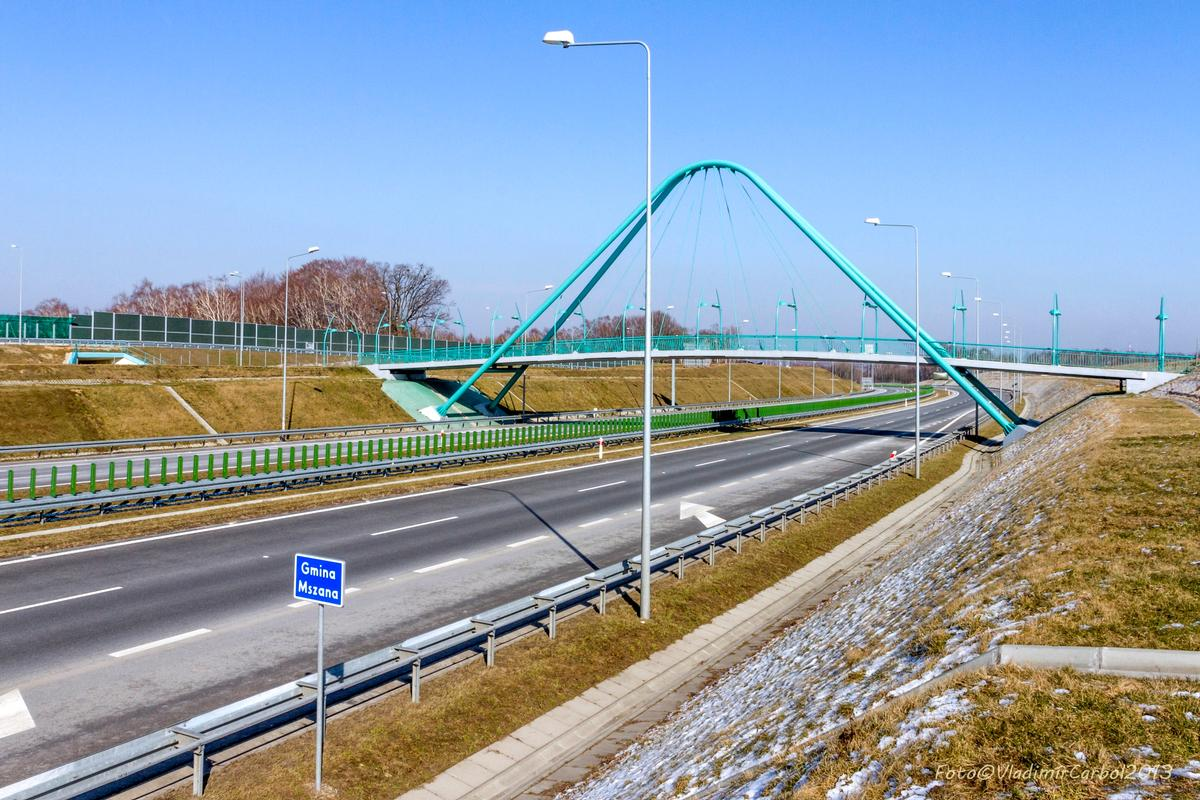bridge: (358, 325, 1122, 395)
